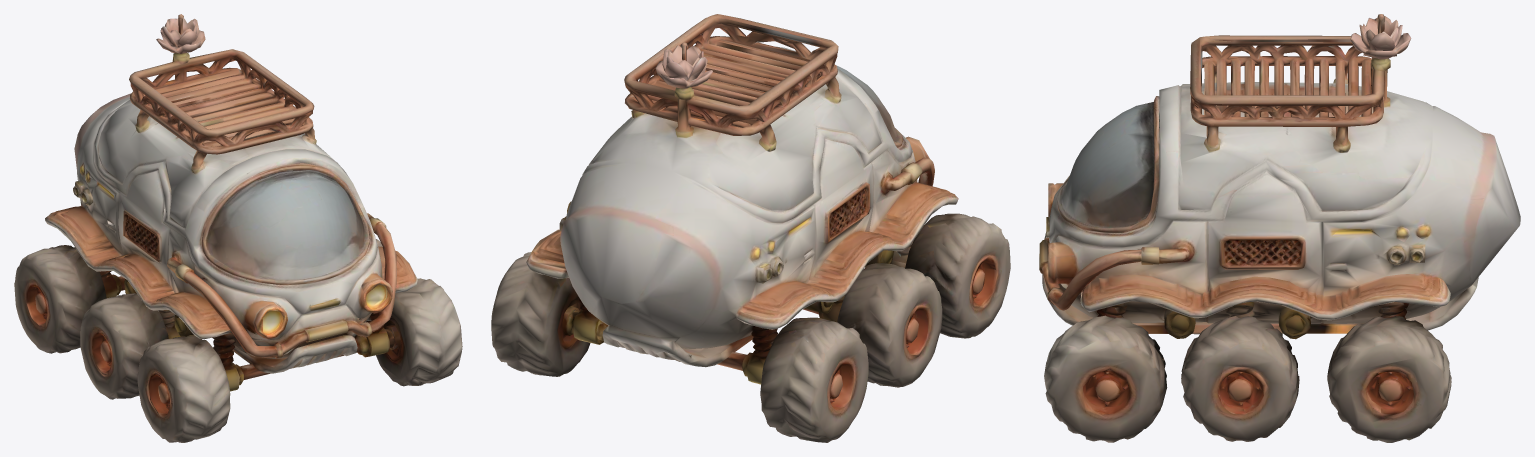
Rendered from rover.glb.
3 renders of one model, left to right at view 1: azimuth 30°, elevation 25°; view 2: azimuth 150°, elevation 25°; view 3: azimuth 270°, elevation 25°, orthographic. The views are drawn at different scales.
Visible parts, largest first — view 1: node_0; view 2: node_0; view 3: node_0.
Boxes of the visible parts, x1,y1,x2,y2 form: node_0: (14, 14, 462, 442); node_0: (491, 14, 1010, 442); node_0: (1039, 14, 1520, 442).
Bounding box in the file's own units: 2.51 × 2.6 × 3.19.
1 material, 1 textured.
